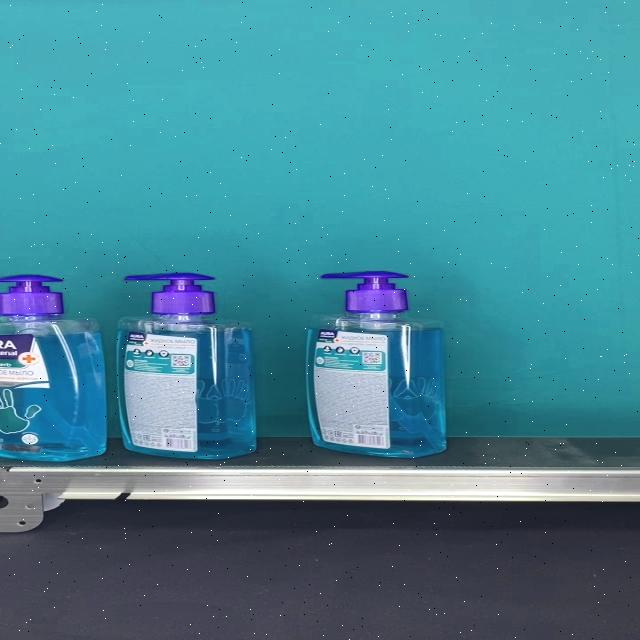Bottle: (305, 271, 446, 458), (117, 272, 256, 460), (0, 274, 107, 462)
Cap: (122, 273, 214, 316), (320, 270, 409, 312), (0, 273, 64, 314)
